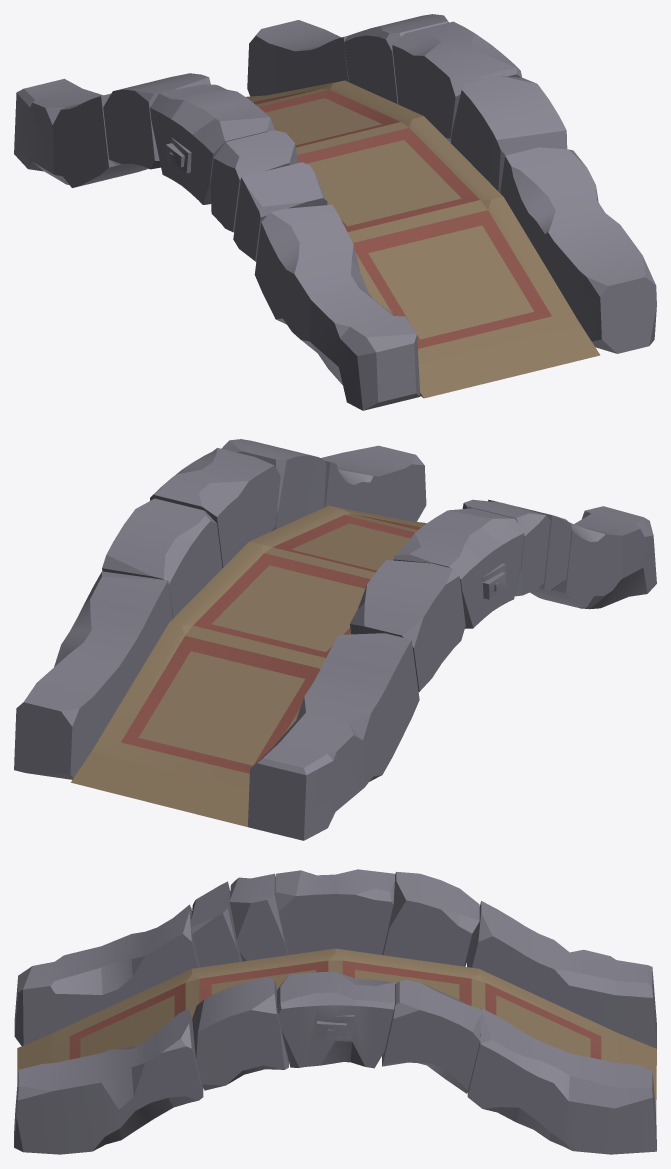
File: Bridge.fbx
3 renders of one model, top to bottom at view 1: azimuth 30°, elevation 25°; view 2: azimuth 150°, elevation 25°; view 3: azimuth 270°, elevation 25°, orthographic. The views are drawn at different scales.
Parts seen in each view (by area): view 1: Bridge; view 2: Bridge; view 3: Bridge.
Part boxes in pixels (x1,y1,x2,y2): Bridge: (14,14,656,410); Bridge: (14,439,656,840); Bridge: (14,869,656,1154).
Size of the model in its own units: 370 by 190 by 700.
